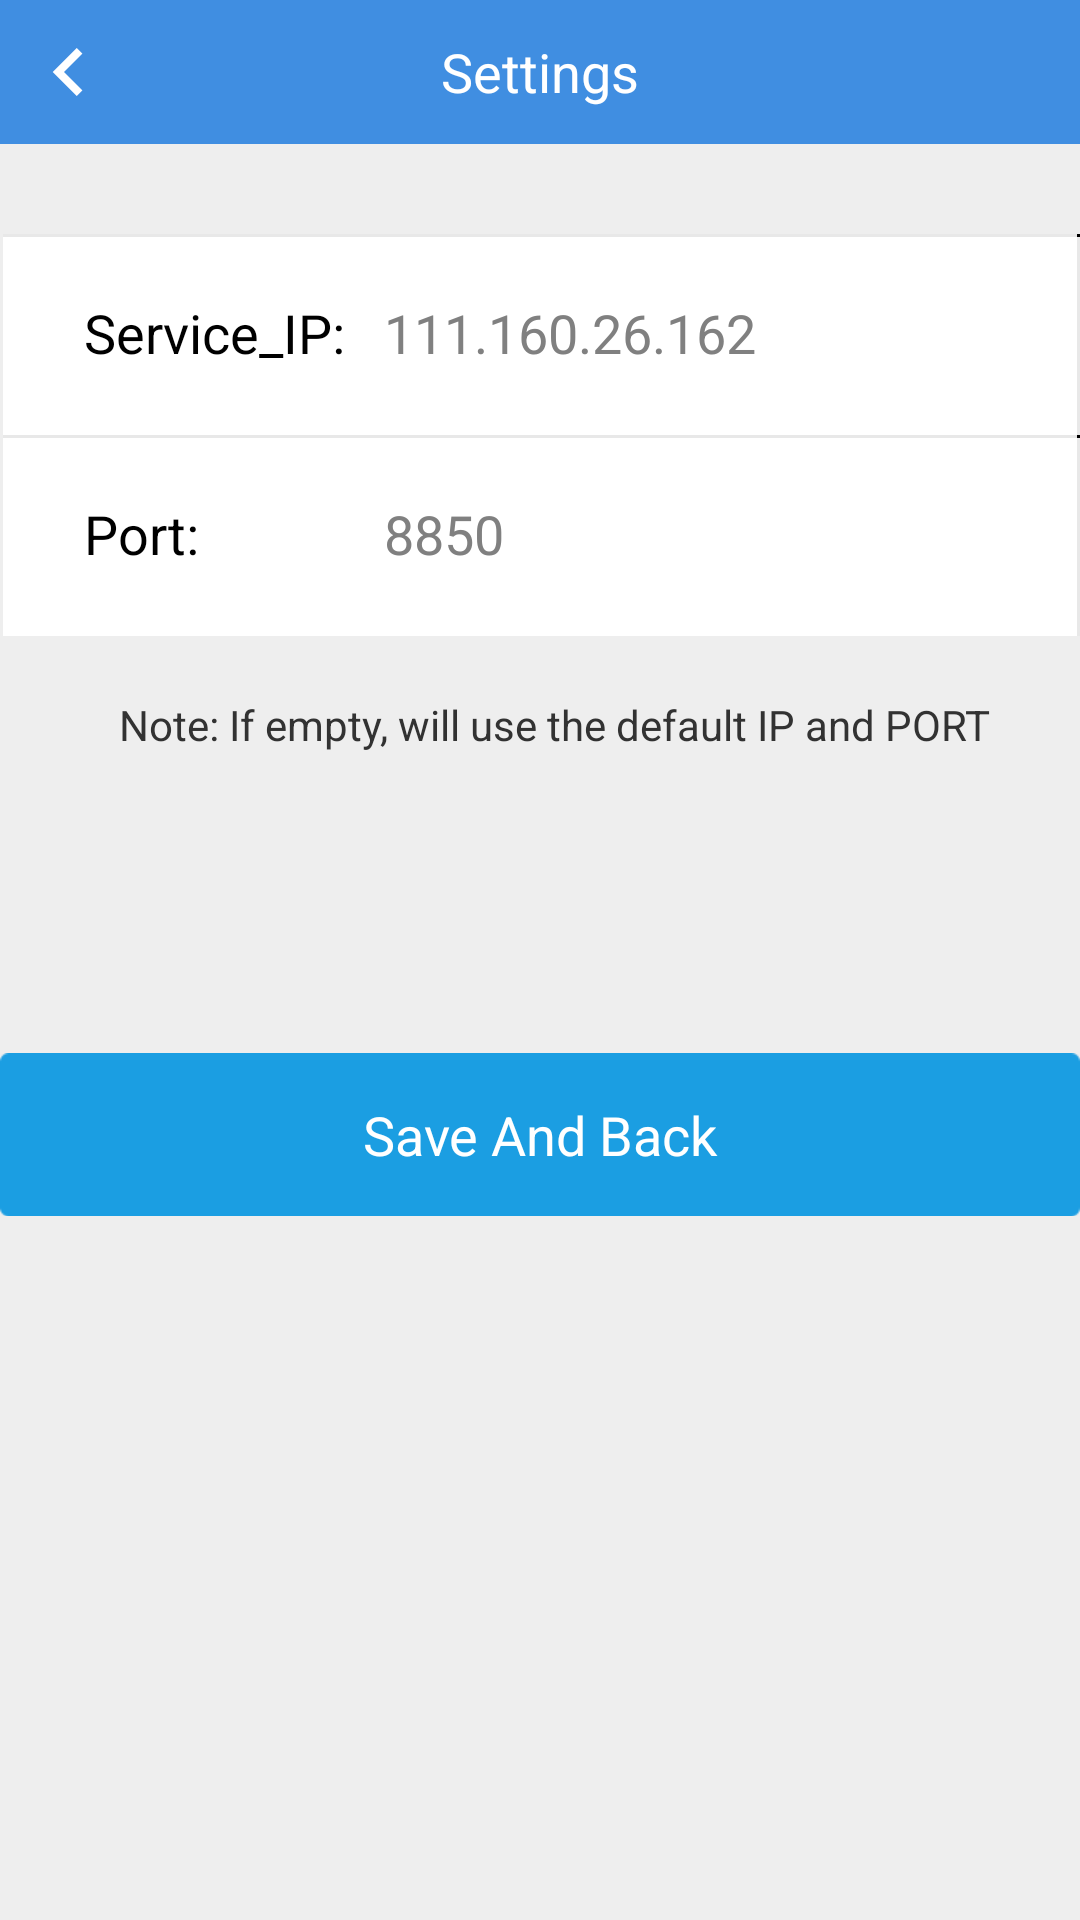

Screen size 1080x1920. Icon name, then its center in pixels as (x=x, y=y):
back: (x=68, y=72)
